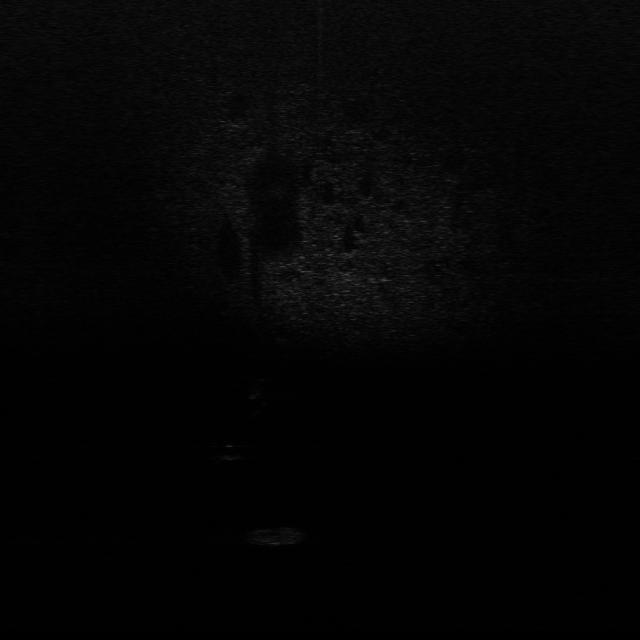ball: (222, 441, 243, 462)
circle cage: (248, 521, 311, 549)
human body: (246, 375, 270, 419)
